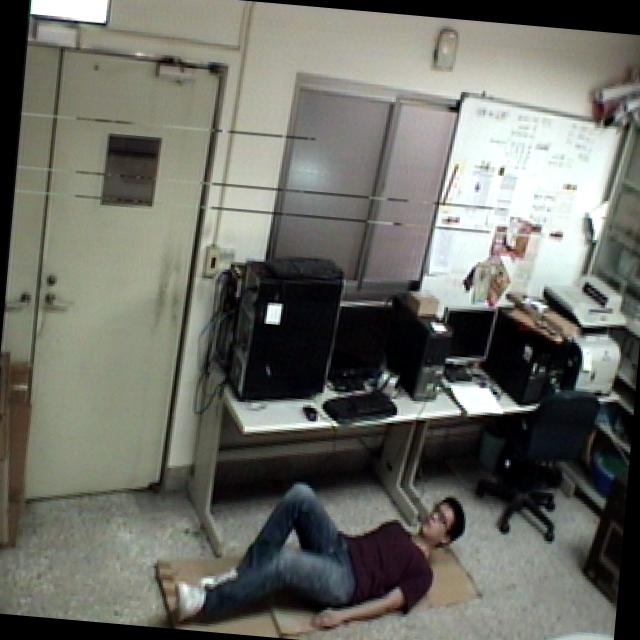lie: (161, 461, 474, 640)
